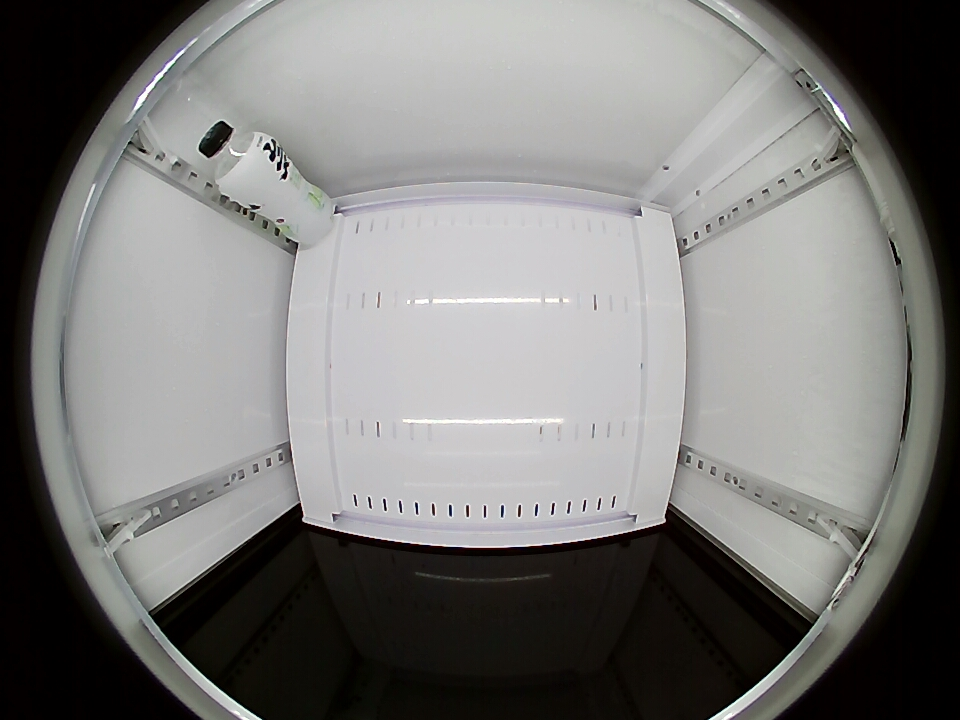yuanqishui: (197, 121, 280, 200)
